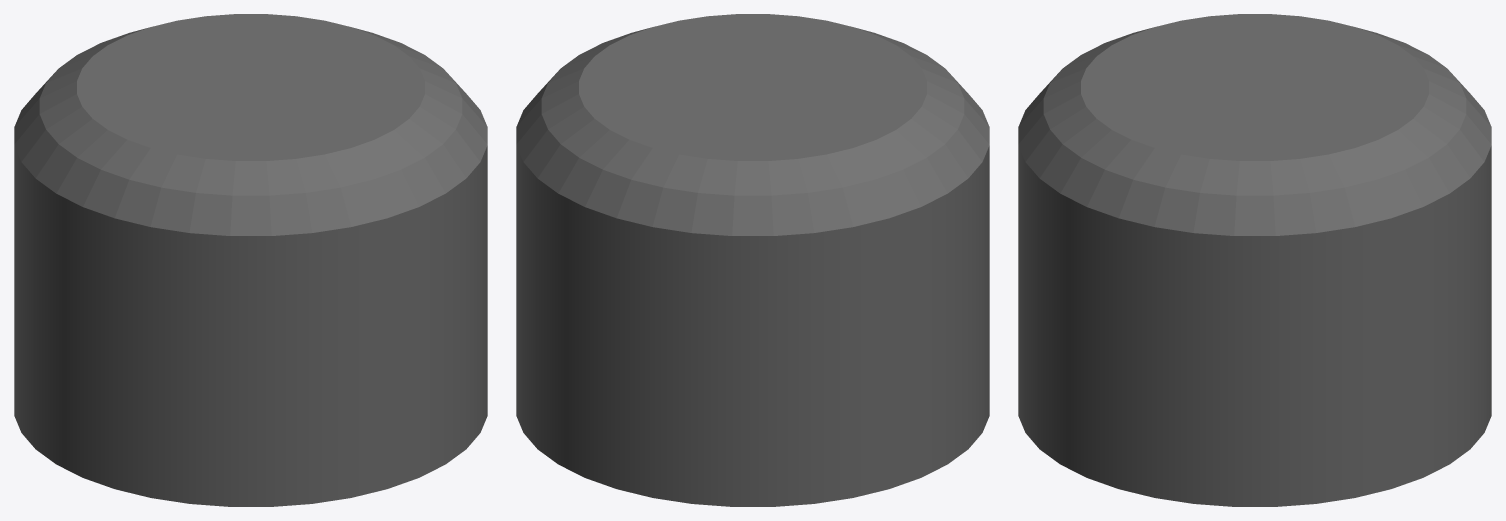
File: tarot_t650_motor_black.dae
3 views of the same model, side by side, from view 1: azimuth 30°, elevation 25°; view 2: azimuth 150°, elevation 25°; view 3: azimuth 270°, elevation 25° (orthographic).
Parts seen in each view (by area): view 1: Cylinder028; view 2: Cylinder028; view 3: Cylinder028.
Part boxes in pixels (left/top/right/bottom): Cylinder028: left=14, top=14, right=487, bottom=506; Cylinder028: left=516, top=14, right=989, bottom=506; Cylinder028: left=1018, top=14, right=1491, bottom=506.
Size of the model in its own units: 39.85 by 39.85 by 29.66.
Materials: 1 (1 with a texture image).
